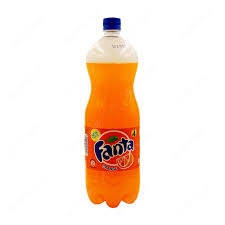fanta_bottle: (84, 16, 142, 208)
